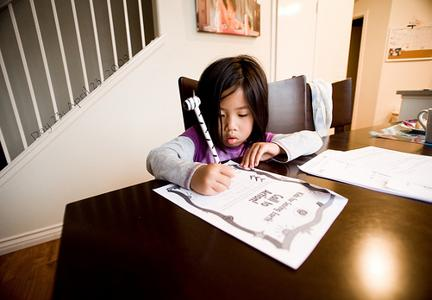person: (145, 56, 327, 197)
